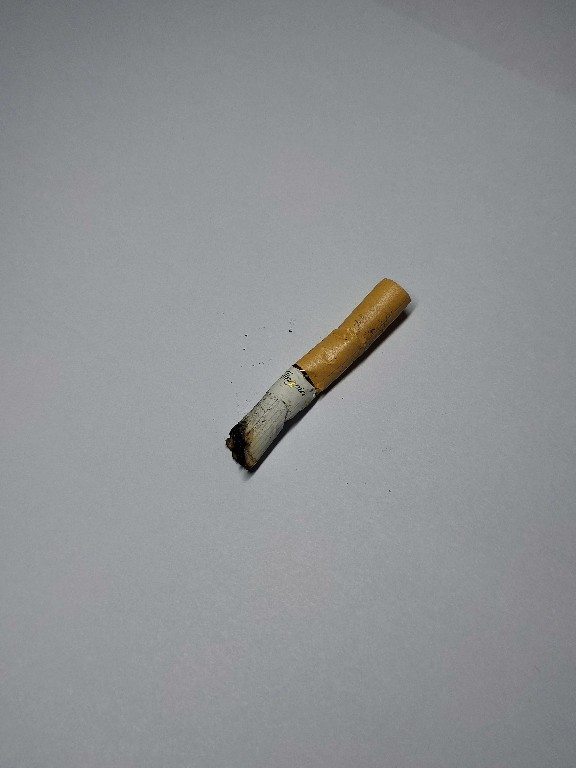cigarette: (224, 272, 413, 482)
